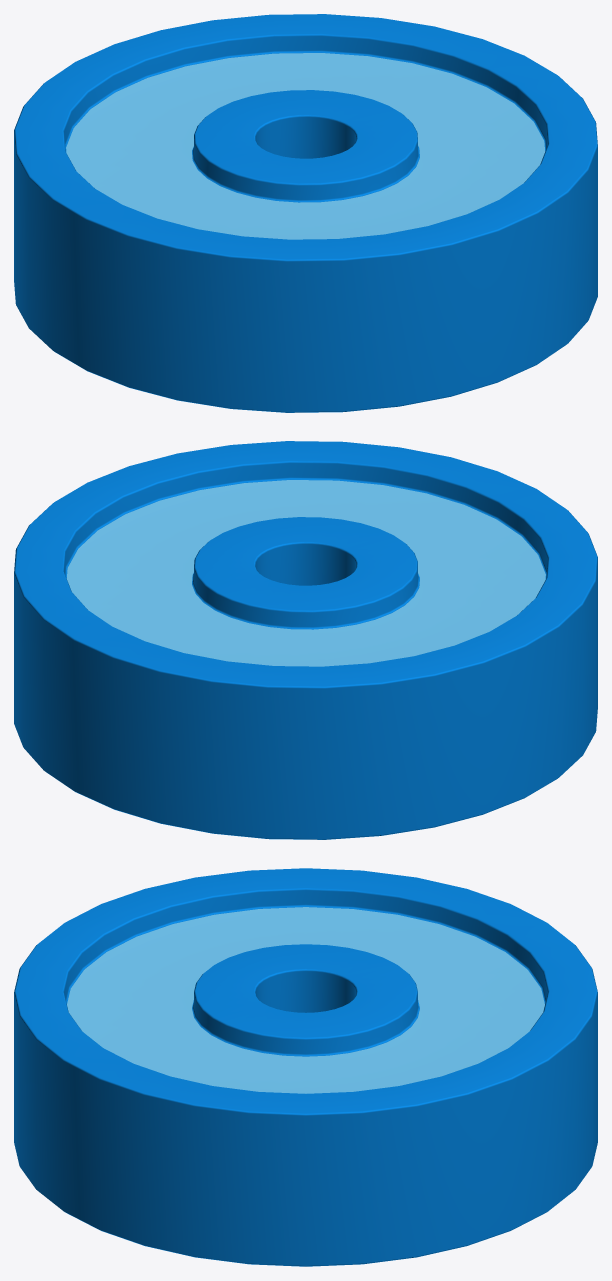
File: City_18_Weight_3.glb
3 renders of one model, top to bottom at view 1: azimuth 30°, elevation 25°; view 2: azimuth 150°, elevation 25°; view 3: azimuth 270°, elevation 25°, orthographic.
Parts seen in each view (by area): view 1: City_18_Weight_3; view 2: City_18_Weight_3; view 3: City_18_Weight_3.
Part boxes in pixels (bbox=[...]): City_18_Weight_3: bbox=[14, 14, 597, 412]; City_18_Weight_3: bbox=[14, 441, 597, 839]; City_18_Weight_3: bbox=[14, 868, 597, 1266].
Bounding box in the file's own units: 0.3921 × 0.1136 × 0.3921.
Materials: 1 (1 with a texture image).
